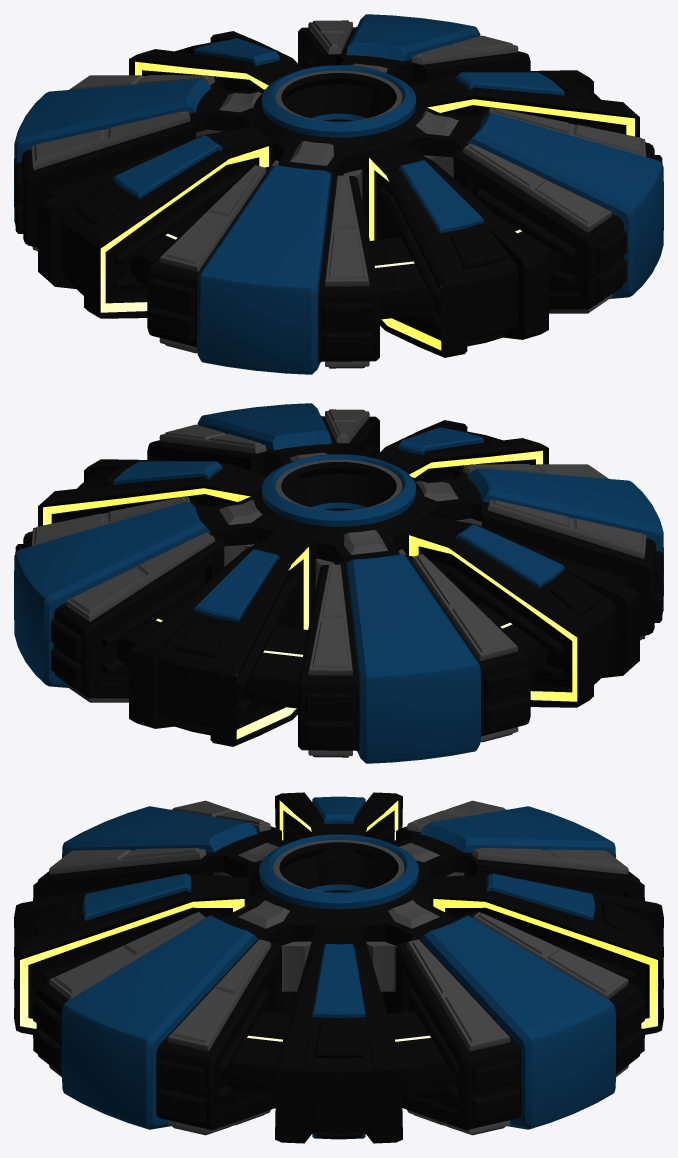
File: 01_platform_7x7.glb
3 views of the same model, one above another, from view 1: azimuth 30°, elevation 25°; view 2: azimuth 150°, elevation 25°; view 3: azimuth 270°, elevation 25° (orthographic). The views are drawn at different scales.
Parts seen in each view (by area): view 1: 01_platform_7x7; view 2: 01_platform_7x7; view 3: 01_platform_7x7.
Part boxes in pixels (x1,y1,x2,y2): 01_platform_7x7: (14, 14, 663, 374); 01_platform_7x7: (14, 403, 663, 763); 01_platform_7x7: (14, 792, 663, 1143).
Size of the model in its own units: 0.9855 by 0.3491 by 0.9874.
